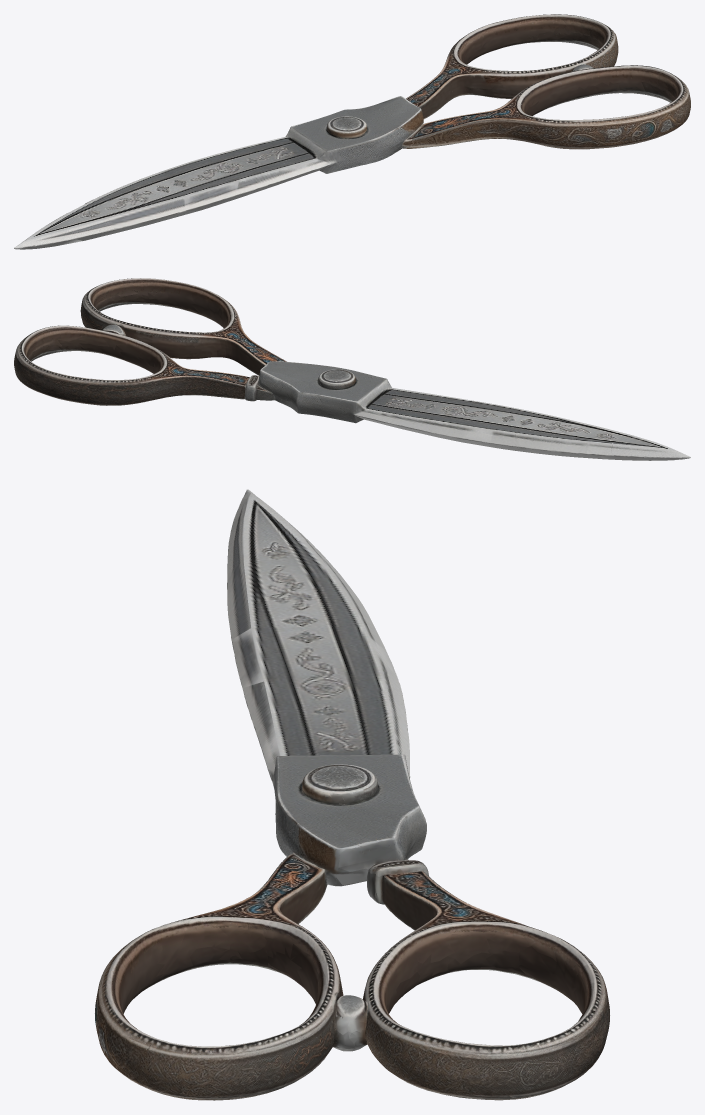
Rendered from TOOL_MASTER_SCISSORS_001.glb.
3 views of the same model, one above another, from view 1: azimuth 30°, elevation 25°; view 2: azimuth 150°, elevation 25°; view 3: azimuth 270°, elevation 25° (orthographic). The views are drawn at different scales.
Bounding box in the file's own units: 1.9 × 0.0877 × 0.695.
Materials: 1 (1 with a texture image).
